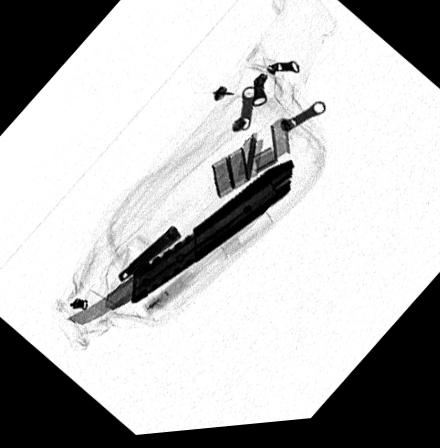Knife: (66, 163, 295, 328)
